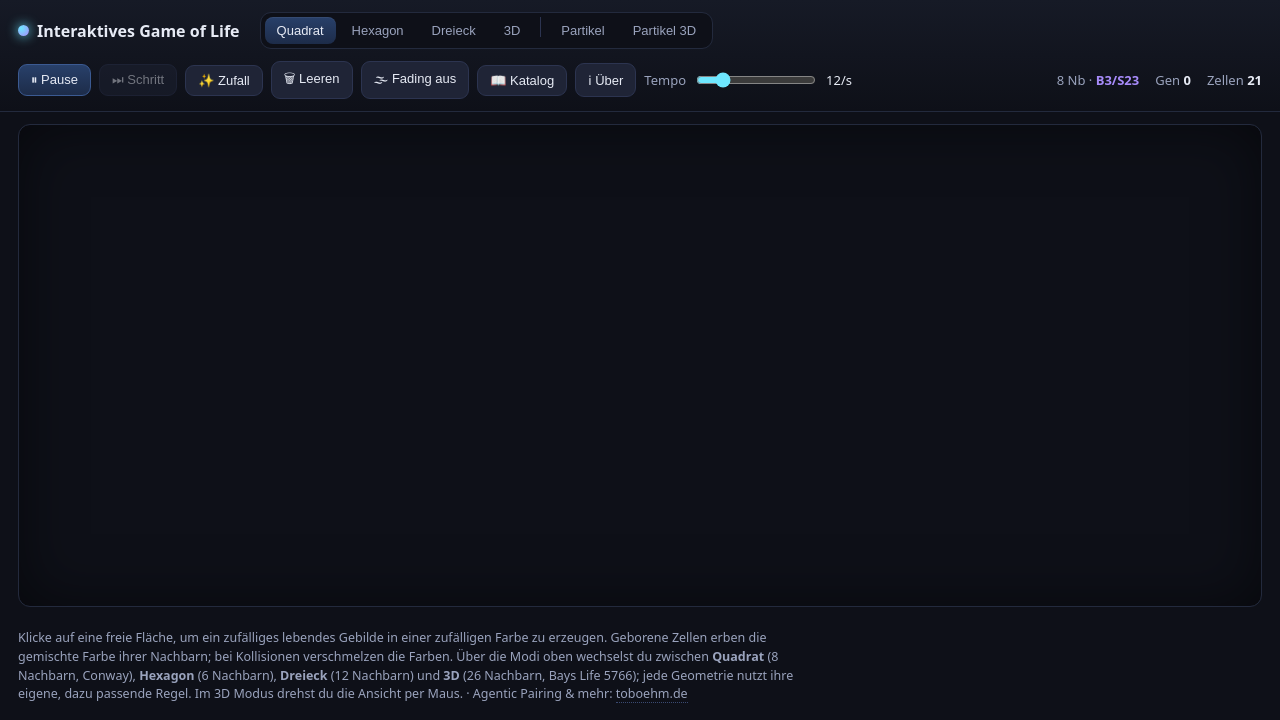
Test: Particle Life mode › goes back to the Game of Life modes
Step 1. Click the button "Partikel" → (583, 30), box [549,17,617,44]
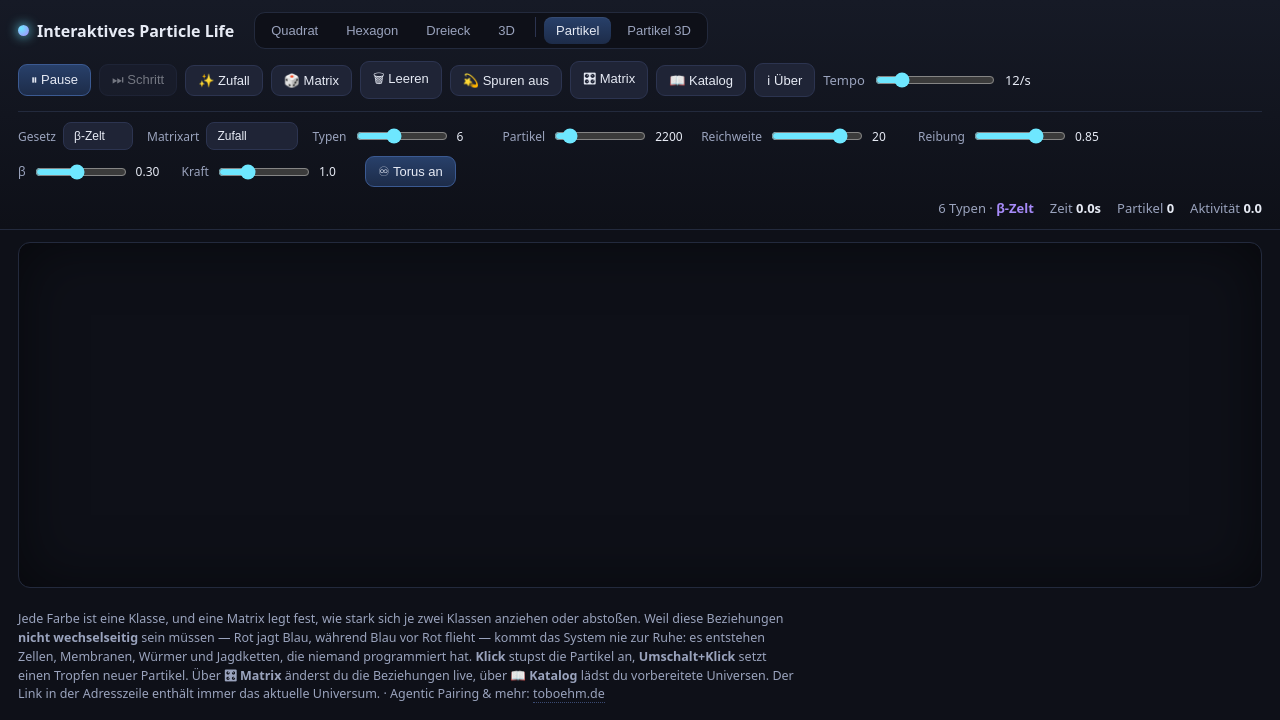
Step 2. Click the button "Quadrat" → (295, 30), box [259,17,330,44]
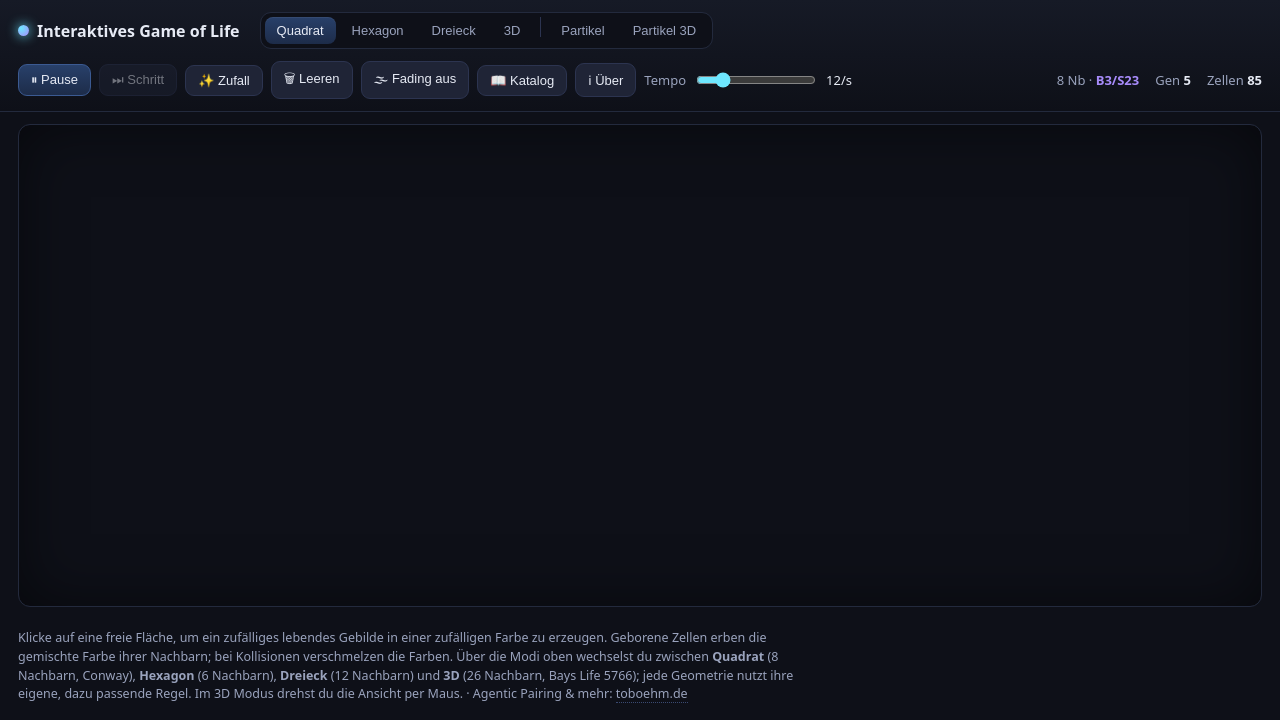
Now the text "B3/S23" is shown, box [1096,71,1139,89]
Now the button "Torus" is gone
